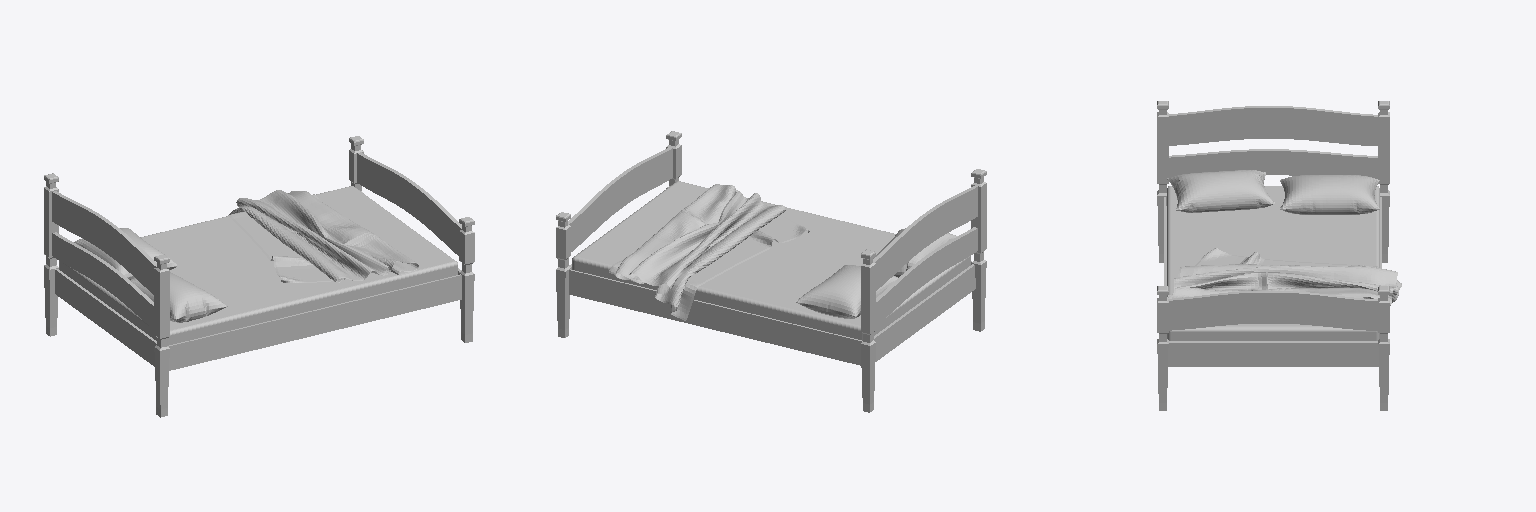
File: Old_wood_bed.obj
3 views of the same model, side by side, from view 1: azimuth 30°, elevation 25°; view 2: azimuth 150°, elevation 25°; view 3: azimuth 270°, elevation 25° (orthographic).
Parts seen in each view (by area): view 1: Mattress WoodBed, OldBlanket, Edges1, Support Bed_wood, Edges2, Old_pillow2 OldPillow_3, OldPillow_3 Old_pillow1; view 2: Mattress WoodBed, OldBlanket, Edges1, Support Bed_wood, Edges2, OldPillow_3 Old_pillow1, Old_pillow2 OldPillow_3; view 3: Edges1, Mattress WoodBed, Edges2, OldBlanket, Support Bed_wood, Old_pillow2 OldPillow_3, OldPillow_3 Old_pillow1.
Part boxes in pixels (left/top/right/bottom): Mattress WoodBed: left=59, top=186, right=457, bottom=345; OldBlanket: left=228, top=190, right=418, bottom=282; Edges1: left=44, top=173, right=169, bottom=417; Support Bed_wood: left=55, top=268, right=461, bottom=370; Edges2: left=349, top=136, right=474, bottom=342; Old_pillow2 OldPillow_3: left=130, top=272, right=227, bottom=322; OldPillow_3 Old_pillow1: left=74, top=228, right=178, bottom=279; Mattress WoodBed: left=572, top=181, right=970, bottom=340; OldBlanket: left=609, top=184, right=809, bottom=320; Edges1: left=861, top=169, right=986, bottom=412; Support Bed_wood: left=569, top=261, right=975, bottom=365; Edges2: left=556, top=131, right=681, bottom=337; OldPillow_3 Old_pillow1: left=795, top=265, right=897, bottom=318; Old_pillow2 OldPillow_3: left=873, top=228, right=957, bottom=277; Edges1: left=1157, top=101, right=1389, bottom=262; Mattress WoodBed: left=1167, top=186, right=1379, bottom=340; Edges2: left=1157, top=286, right=1389, bottom=410; OldBlanket: left=1167, top=248, right=1401, bottom=305; Support Bed_wood: left=1164, top=197, right=1381, bottom=366; Old_pillow2 OldPillow_3: left=1167, top=170, right=1274, bottom=212; OldPillow_3 Old_pillow1: left=1280, top=175, right=1379, bottom=214.
Size of the model in its own units: 304 by 146 by 205.